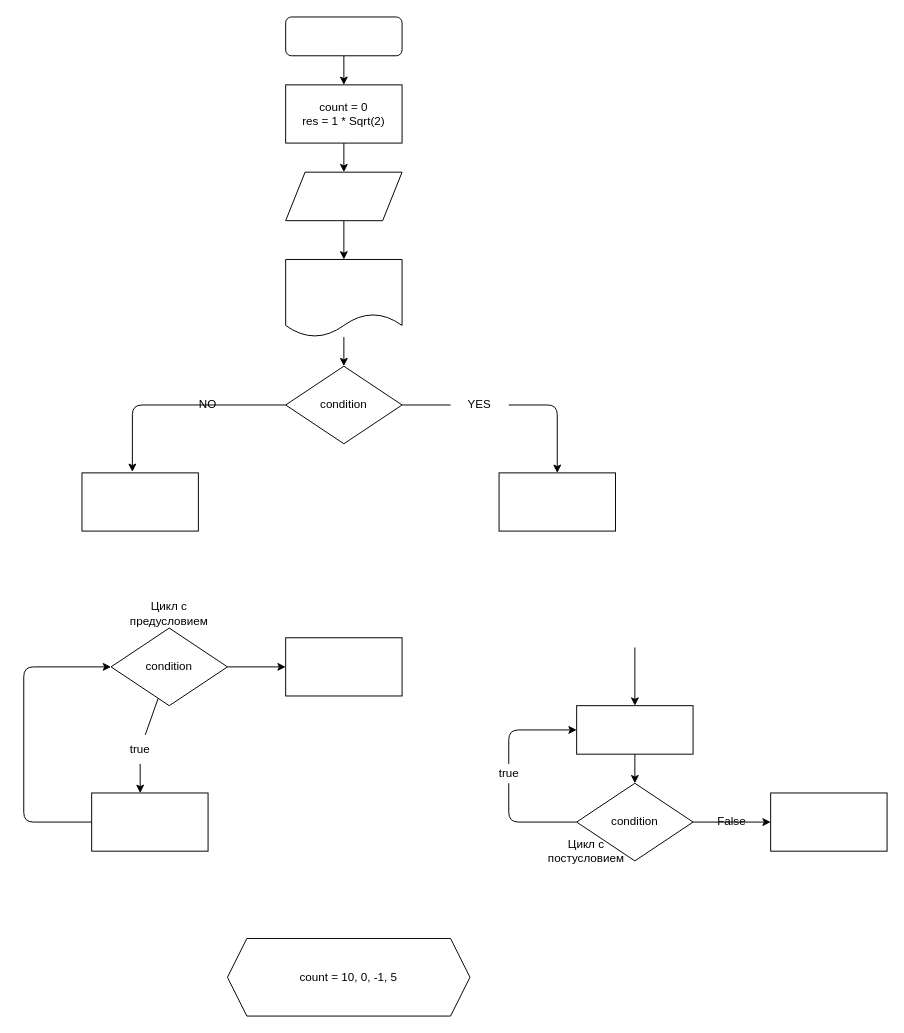
This 904x1033 diagram has some shape labels left out. Here are the shapes that lost their labels. From the top down, the centre of each, then its label:
At (343,36): "Start End".
At (343,196): "Ввод count".
At (343,298): "Вывод res".
